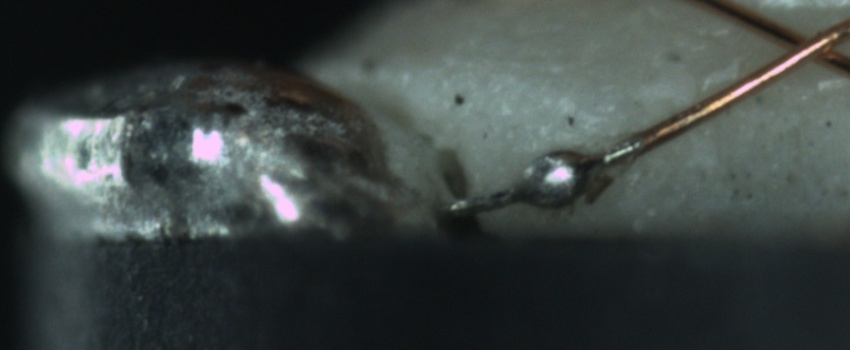CL: (758, 13, 847, 77)
DL: (609, 67, 850, 108)
TB: (512, 144, 594, 211)
TS: (440, 139, 641, 217)
TTCW: (447, 111, 683, 217)
